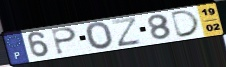6: (26, 31, 51, 58)
8: (146, 13, 173, 41)
D: (170, 9, 203, 39)
O: (84, 21, 115, 51)
P: (50, 26, 78, 56)
Z: (110, 15, 144, 48)
